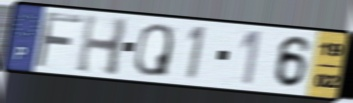1: (237, 28, 263, 88), (186, 25, 207, 83)
6: (272, 34, 312, 90)
F: (32, 10, 85, 70)
H: (74, 12, 131, 78)
Q: (132, 22, 175, 79)
